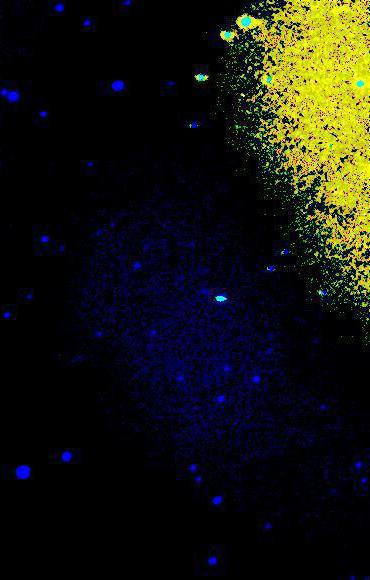star: (232, 86, 262, 116)
